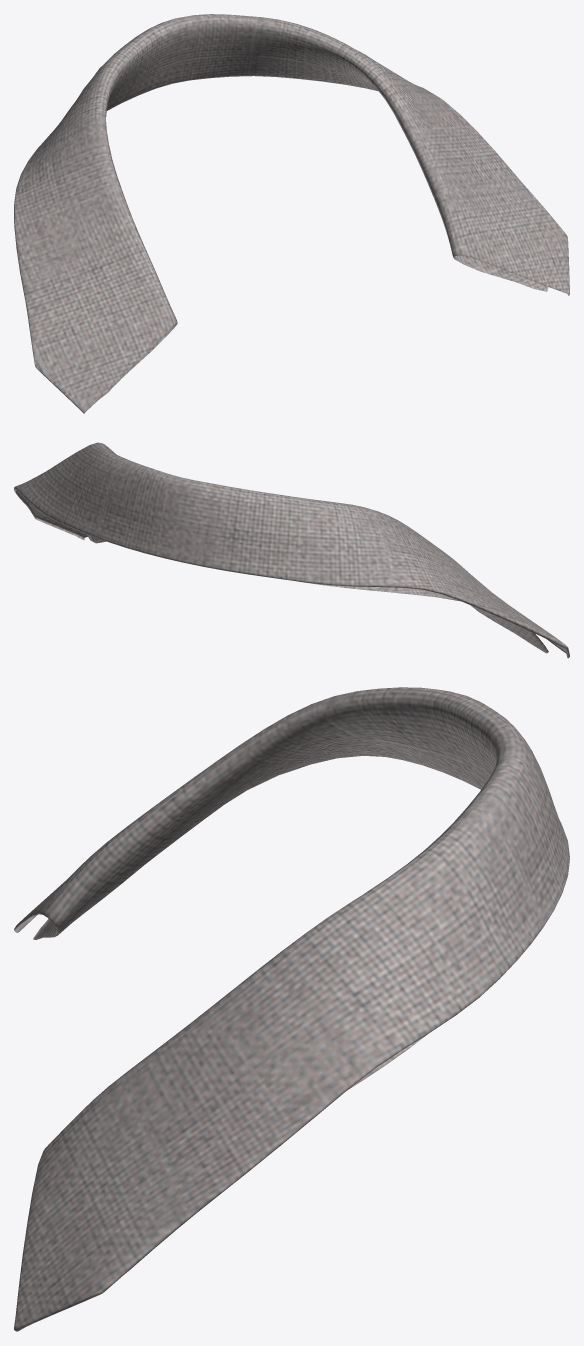
The model's file is notch_collar.glb.
3 views of the same model, one above another, from view 1: azimuth 30°, elevation 25°; view 2: azimuth 150°, elevation 25°; view 3: azimuth 270°, elevation 25° (orthographic). The views are drawn at different scales.
Visible parts, largest first — view 1: notch_collar1; view 2: notch_collar1; view 3: notch_collar1.
Boxes of the visible parts, box(x1,y1,x2,y2) form: notch_collar1: box(14, 14, 569, 413); notch_collar1: box(14, 442, 569, 658); notch_collar1: box(14, 687, 569, 1331).
Size of the model in its own units: 0.0371 by 0.0152 by 0.0199.
Materials: 1 (1 with a texture image).
